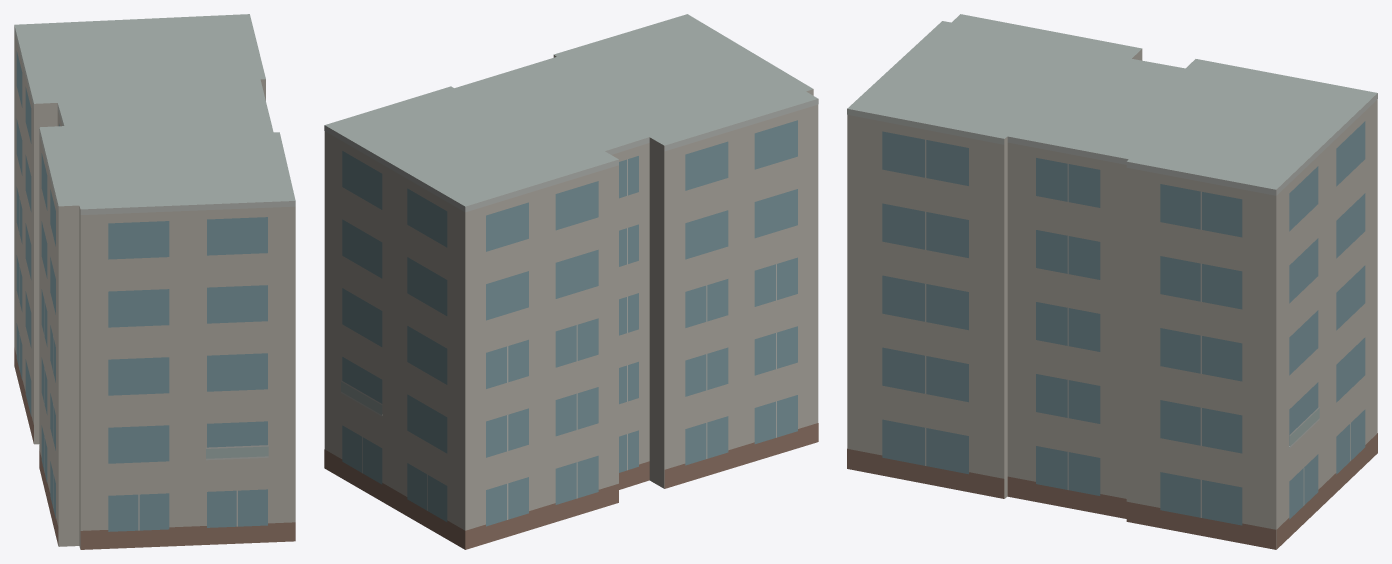
The model's file is survey-upis-32678943.glb.
3 views of the same model, side by side, from view 1: azimuth 30°, elevation 25°; view 2: azimuth 150°, elevation 25°; view 3: azimuth 270°, elevation 25° (orthographic). The views are drawn at different scales.
Parts seen in each view (by area): view 1: survey-upis-32678943.tmp; view 2: survey-upis-32678943.tmp; view 3: survey-upis-32678943.tmp.
Part boxes in pixels (<box>): survey-upis-32678943.tmp: <box>14,14,295,549</box>; survey-upis-32678943.tmp: <box>324,14,818,549</box>; survey-upis-32678943.tmp: <box>847,14,1377,549</box>.
Bounding box in the file's own units: 15.19 × 14.5 × 19.37.
